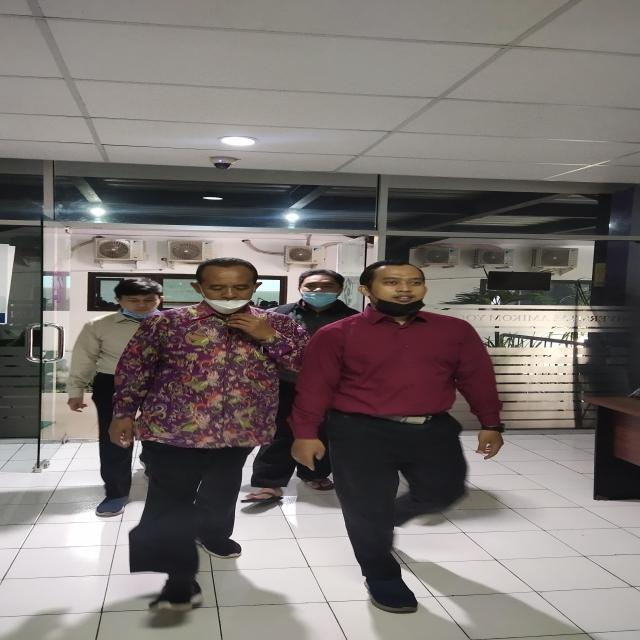hairnet: (188, 255, 264, 318), (356, 258, 430, 318), (110, 277, 168, 321), (295, 268, 346, 308)
